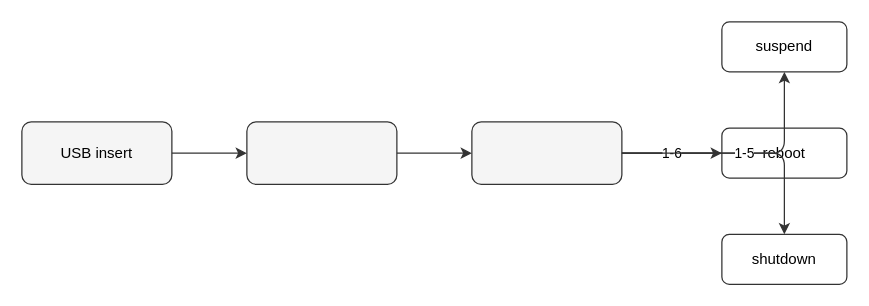
This 869x306 diagram has some shape labels left out. Each missing label, with the box of its shape:
udev rule 13fe:3e00: (246, 121, 397, 184)
usb_action.sh case $PORT: (471, 121, 622, 184)
